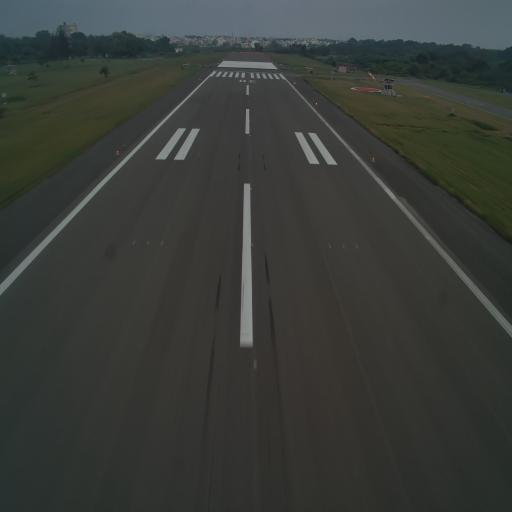off: (131, 238, 137, 248), (352, 242, 358, 252), (341, 240, 346, 251), (145, 238, 150, 248), (159, 239, 164, 248), (328, 242, 332, 250), (249, 153, 252, 160), (196, 153, 200, 158), (189, 152, 192, 158), (294, 156, 297, 161), (302, 156, 304, 161)
on: (371, 154, 377, 165), (250, 238, 254, 249), (114, 148, 119, 156), (248, 186, 252, 192)
